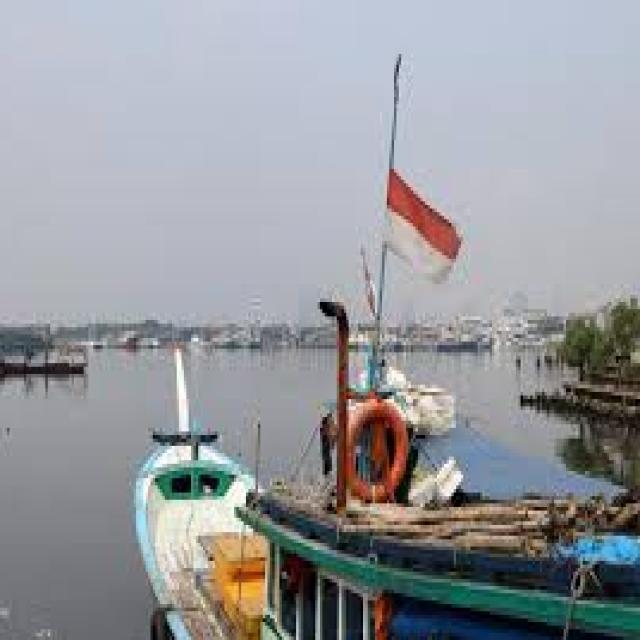fishing boat: (115, 338, 640, 640)
